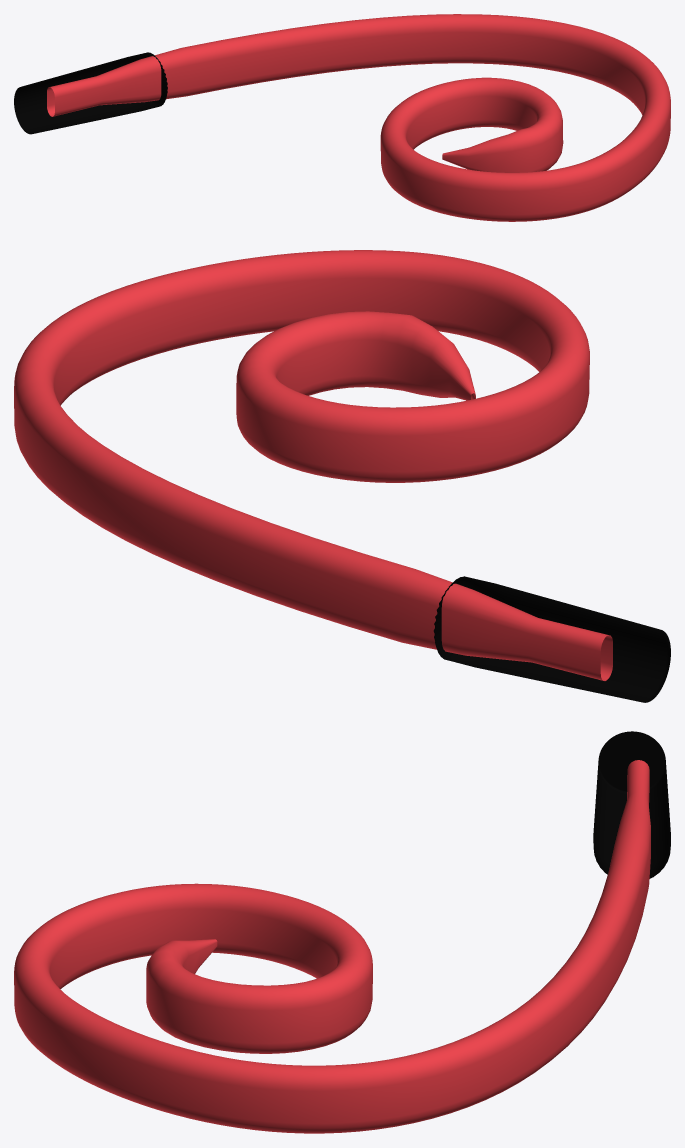
File: whip.glb
3 views of the same model, one above another, from view 1: azimuth 30°, elevation 25°; view 2: azimuth 150°, elevation 25°; view 3: azimuth 270°, elevation 25° (orthographic). The views are drawn at different scales.
Visible parts, largest first — view 1: whip; view 2: whip; view 3: whip.
Part boxes in pixels (x1=…): whip: x1=14, y1=14, x2=670, y2=221; whip: x1=14, y1=250, x2=670, y2=702; whip: x1=14, y1=731, x2=670, y2=1133.
Bounding box in the file's own units: 0.4509 × 0.044 × 0.366.
